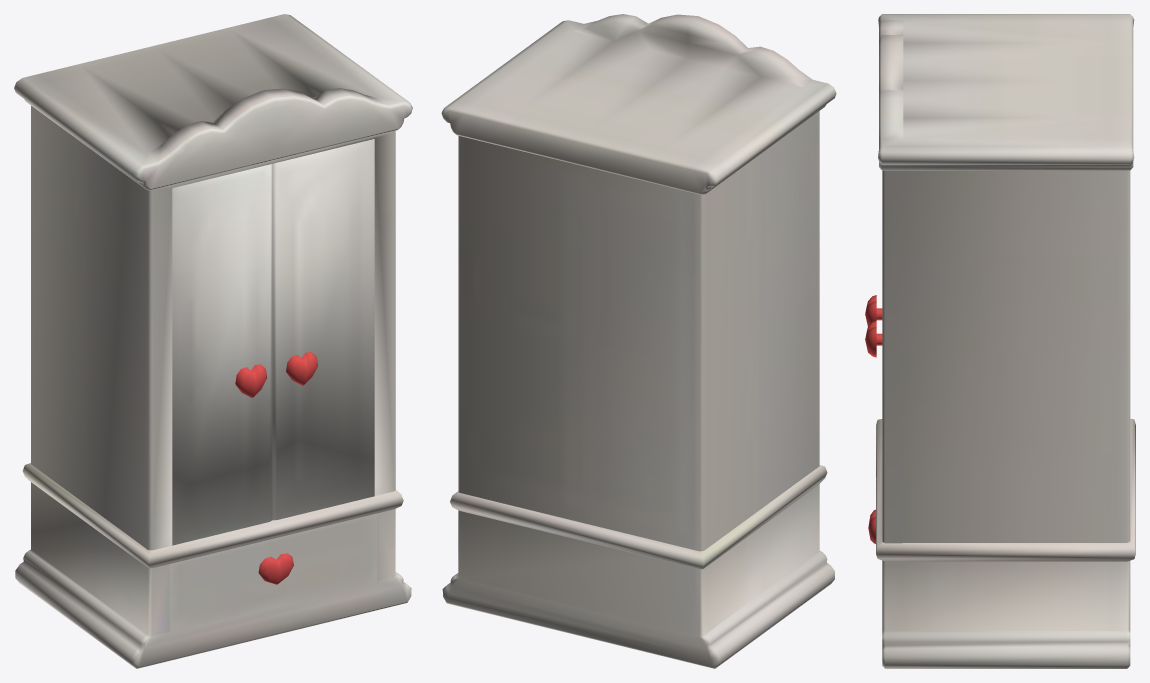
3 renders of one model, left to right at view 1: azimuth 30°, elevation 25°; view 2: azimuth 150°, elevation 25°; view 3: azimuth 270°, elevation 25°, orthographic. The views are drawn at different scales.
Bounding box in the file's own units: 10 × 18.47 × 8.13.
Materials: 1 (1 with a texture image).
